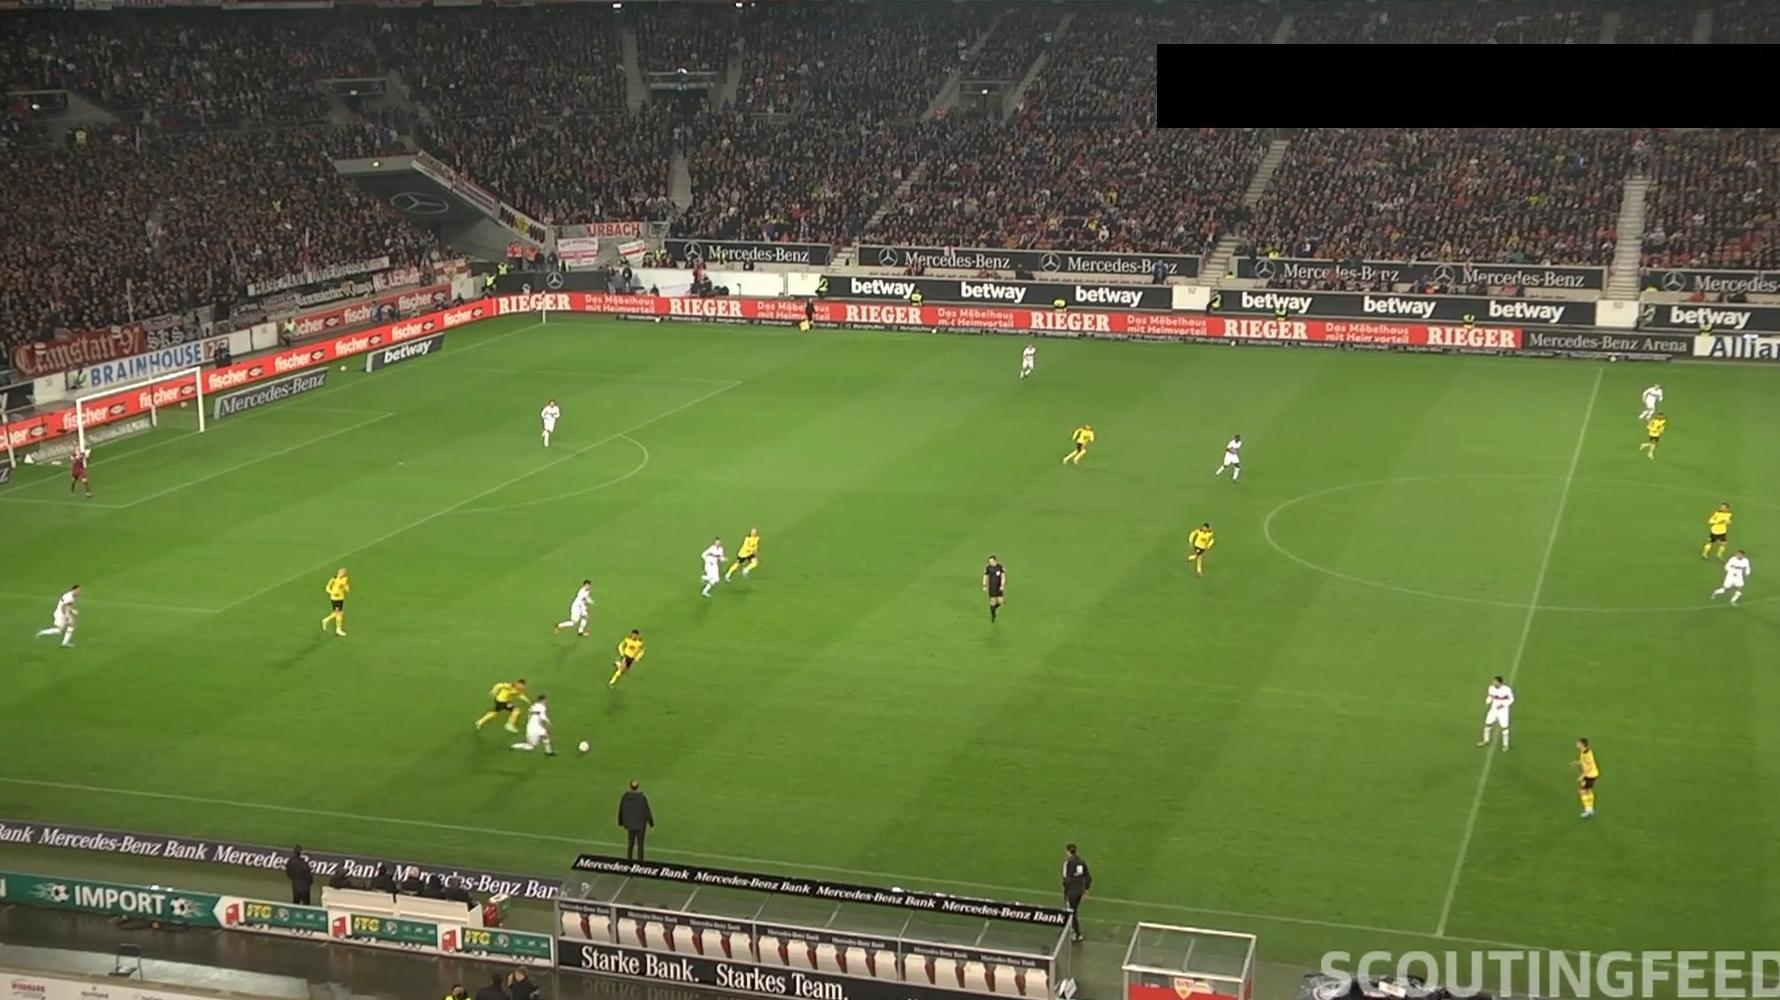ball: (577, 740, 589, 753)
